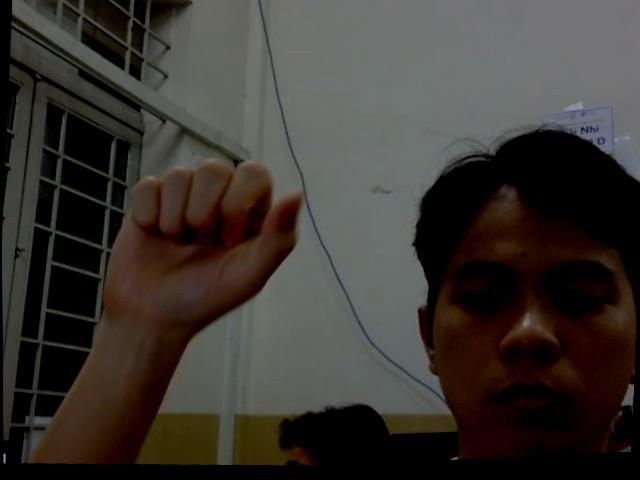A: (106, 153, 312, 325)
